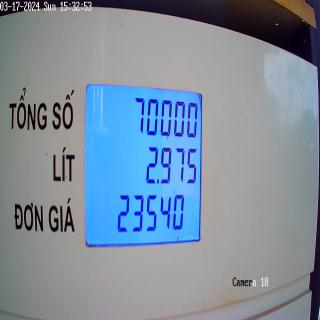screen: (82, 77, 205, 247)
